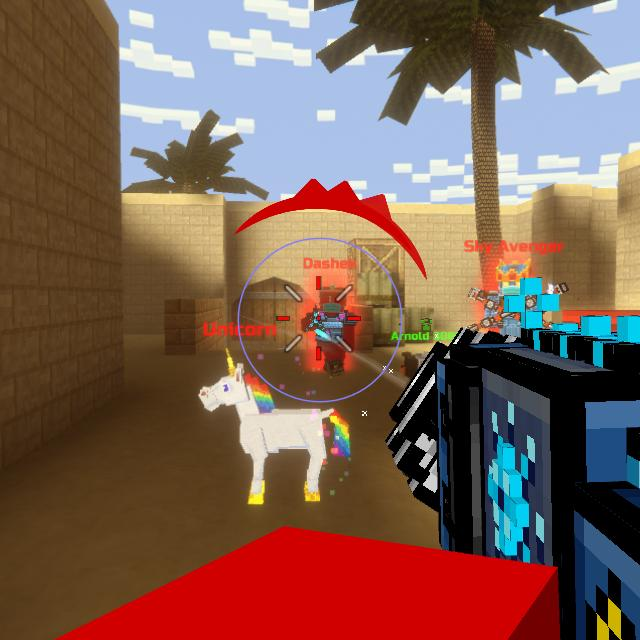Enemy: (302, 286, 356, 376), (484, 264, 530, 336)
